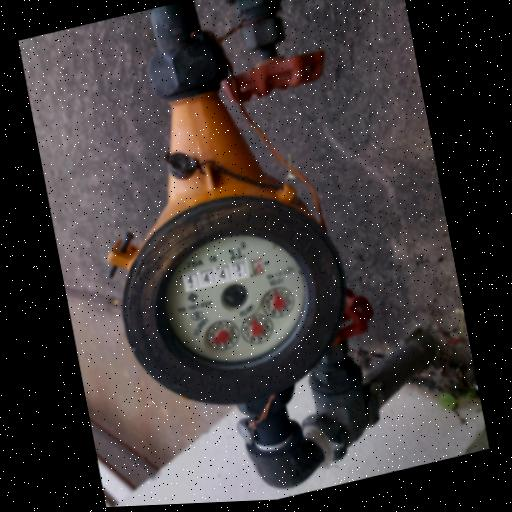3: (233, 261, 247, 278)
4: (216, 265, 230, 282), (250, 258, 264, 275), (185, 273, 199, 289), (201, 269, 215, 285)
border_water_meter_number: (182, 256, 266, 293)
